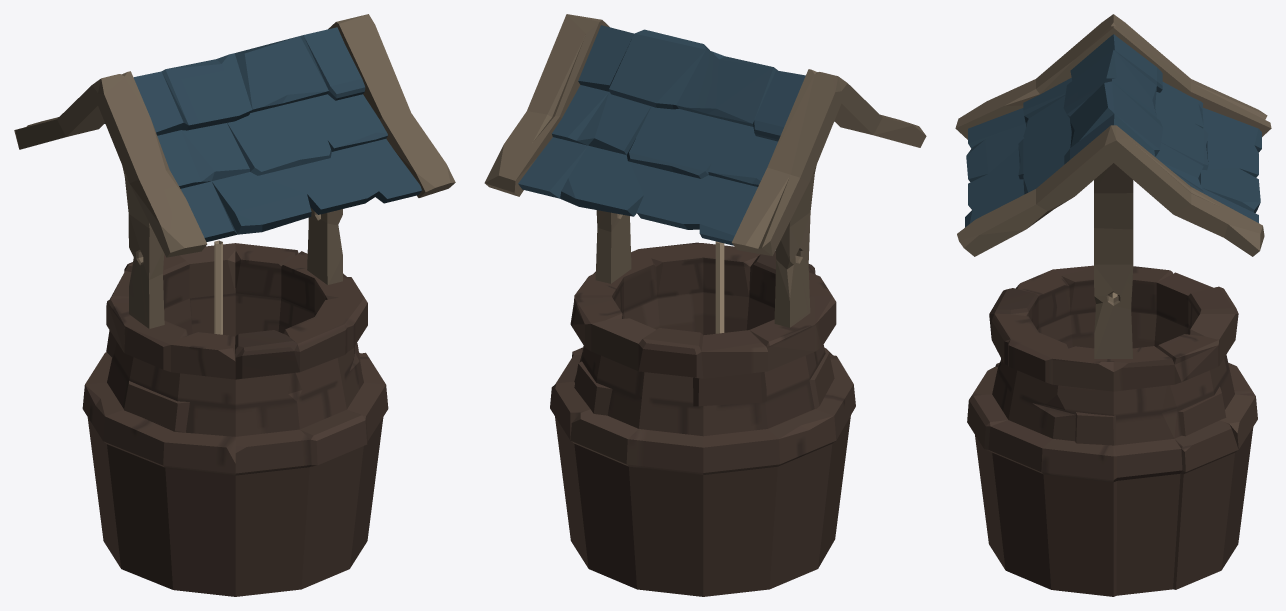
The model's file is res_well.gltf.
3 renders of one model, left to right at view 1: azimuth 30°, elevation 25°; view 2: azimuth 150°, elevation 25°; view 3: azimuth 270°, elevation 25°, orthographic. The views are drawn at different scales.
Visible parts, largest first — view 1: res_well; view 2: res_well; view 3: res_well.
Boxes of the visible parts, <box> form: res_well: <box>14,14,455,596</box>; res_well: <box>484,14,926,596</box>; res_well: <box>955,14,1271,596</box>.
Bounding box in the file's own units: 1.76 × 2.92 × 1.79.
1 material, 1 textured.
